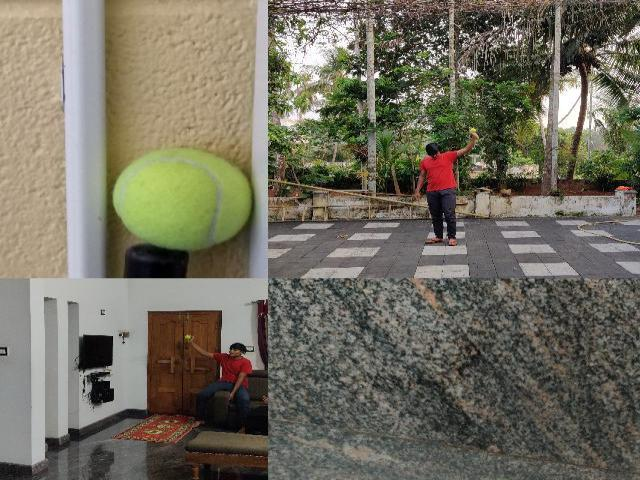tennis-ball: (110, 147, 254, 252), (470, 128, 476, 132), (184, 335, 190, 339)
